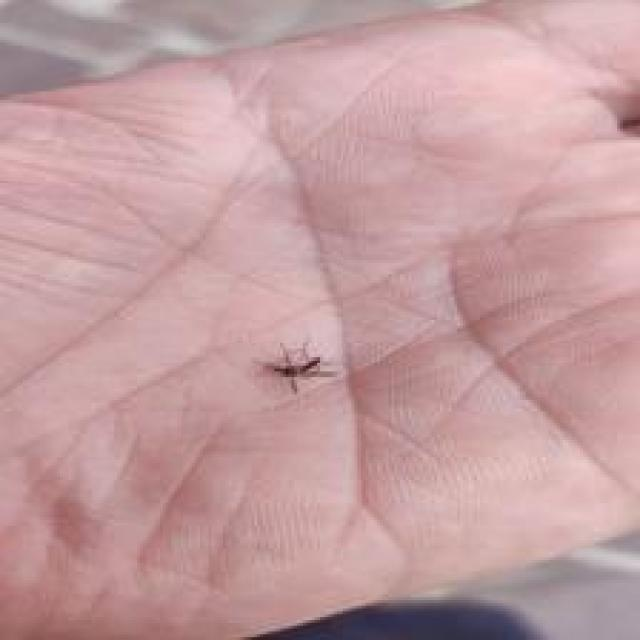Aedes albopictus: (257, 340, 337, 394)
